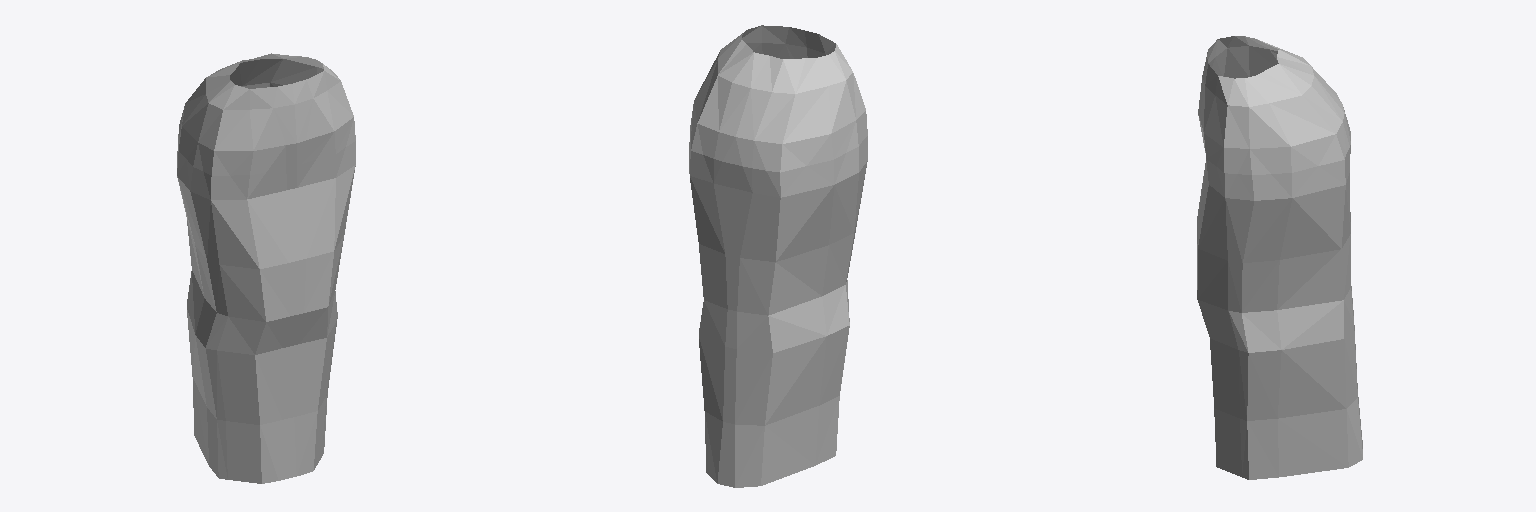
Rendered from avatar_skirt-skirt_bustle.obj.
3 renders of one model, left to right at view 1: azimuth 30°, elevation 25°; view 2: azimuth 150°, elevation 25°; view 3: azimuth 270°, elevation 25°, orthographic.
Parts seen in each view (by area): view 1: g1_avatar_skirt; view 2: g1_avatar_skirt; view 3: g1_avatar_skirt.
Part boxes in pixels (bbox=[...]): g1_avatar_skirt: bbox=[177, 53, 355, 483]; g1_avatar_skirt: bbox=[689, 25, 867, 487]; g1_avatar_skirt: bbox=[1197, 36, 1362, 479].
Bounding box in the file's own units: 0.4622 × 1.12 × 0.4261.